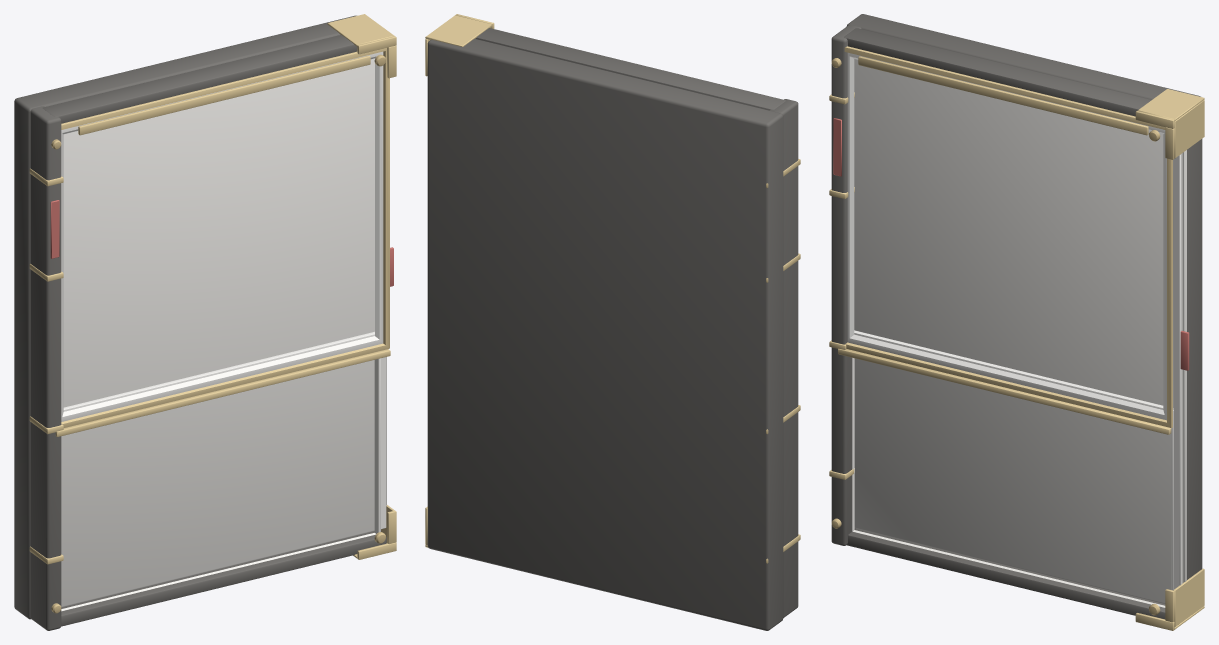
Rendered from collector-box-hd.glb.
The picture shows the model from 3 angles, left to right: view 1: azimuth 30°, elevation 25°; view 2: azimuth 150°, elevation 25°; view 3: azimuth 330°, elevation 25°; orthographic projection.
Visible parts, largest first — view 1: box_02_substrate, box_01_carrier, box_03_cel_frame, box_04_cover, box_05_fasteners; view 2: box_01_carrier, box_05_fasteners; view 3: box_02_substrate, box_01_carrier, box_03_cel_frame, box_05_fasteners, box_04_cover.
Boxes of the visible parts, x1,y1,x2,y2 form: box_02_substrate: (61, 58, 386, 611); box_01_carrier: (14, 15, 386, 630); box_03_cel_frame: (55, 48, 390, 436); box_04_cover: (78, 55, 393, 286); box_05_fasteners: (51, 14, 396, 613); box_01_carrier: (427, 28, 800, 630); box_05_fasteners: (425, 14, 494, 547); box_02_substrate: (852, 59, 1186, 607); box_01_carrier: (829, 14, 1202, 619); box_03_cel_frame: (838, 46, 1172, 434); box_05_fasteners: (831, 58, 1204, 630); box_04_cover: (858, 56, 1189, 370).
Size of the model in its own units: 2.34 by 3.24 by 0.433.
